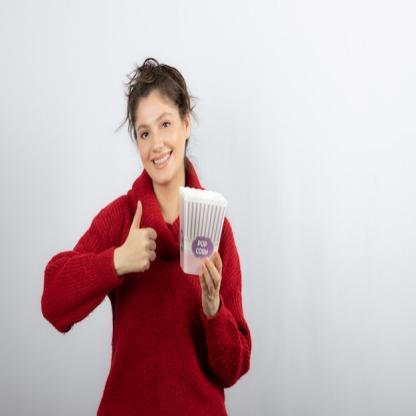thumb_up: (119, 198, 160, 277)
